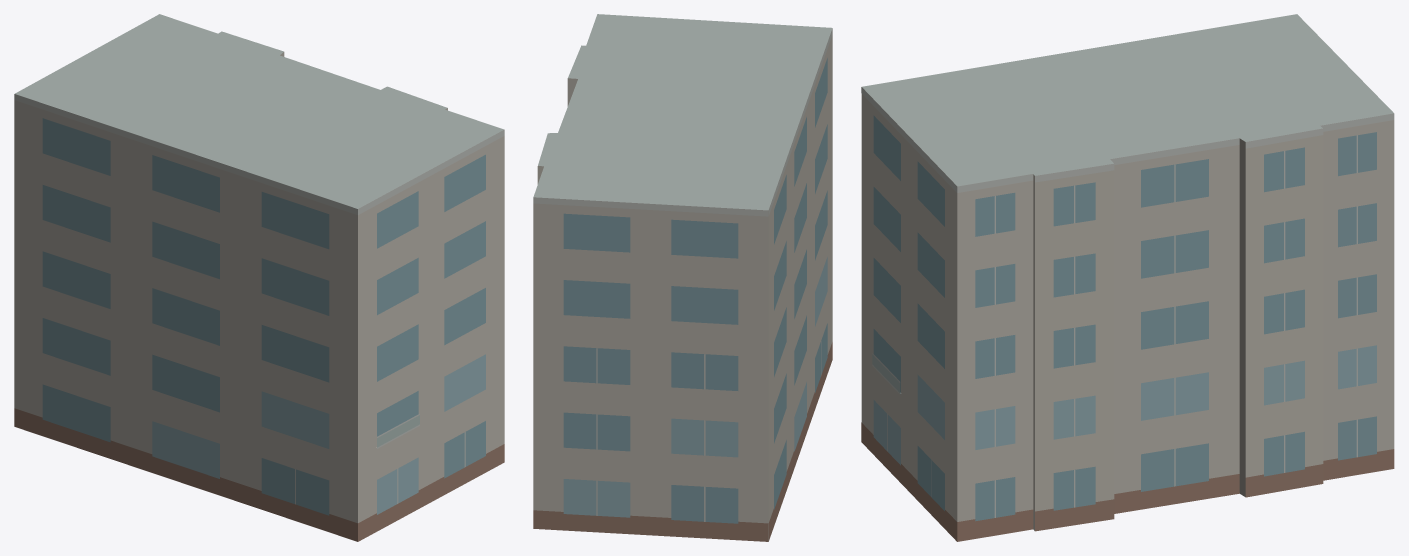
The model's file is survey-upis-32980594.glb.
The picture shows the model from 3 angles, left to right: view 1: azimuth 30°, elevation 25°; view 2: azimuth 150°, elevation 25°; view 3: azimuth 270°, elevation 25°; orthographic projection. The views are drawn at different scales.
Parts seen in each view (by area): view 1: survey-upis-32980594.tmp; view 2: survey-upis-32980594.tmp; view 3: survey-upis-32980594.tmp.
Boxes of the visible parts, box(x1,y1,x2,y2) form: survey-upis-32980594.tmp: box(14, 14, 504, 541); survey-upis-32980594.tmp: box(533, 14, 832, 541); survey-upis-32980594.tmp: box(861, 14, 1394, 541).
Size of the model in its own units: 13.64 by 13.1 by 17.81.
